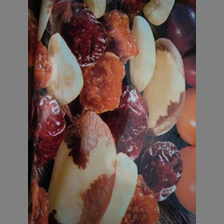nuts: (28, 1, 196, 224)
